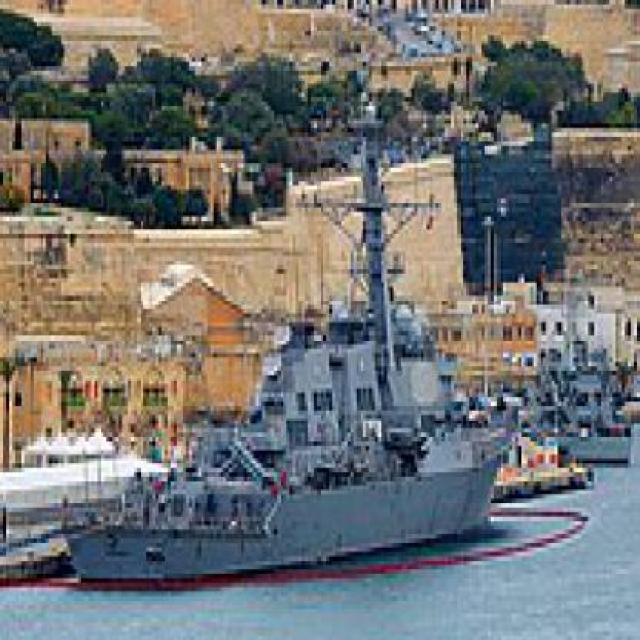warship2: (50, 80, 504, 611)
